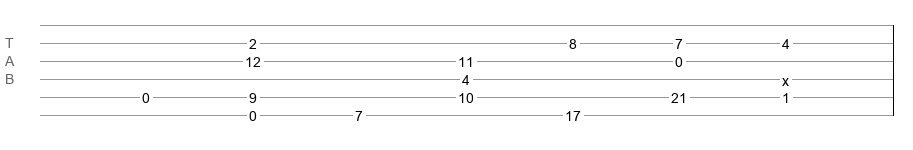0: (142, 90, 150, 100), (249, 108, 257, 118), (675, 54, 683, 64)
1: (782, 90, 790, 100)
10: (458, 90, 474, 100)
11: (458, 54, 474, 64)
12: (245, 54, 261, 64)
17: (565, 108, 581, 118)
2: (249, 36, 257, 46)
21: (671, 90, 687, 100)
4: (462, 72, 470, 82), (782, 36, 790, 46)
7: (355, 108, 363, 118), (675, 36, 683, 46)
8: (569, 36, 577, 46)
9: (249, 90, 257, 100)
x: (782, 73, 789, 81)
